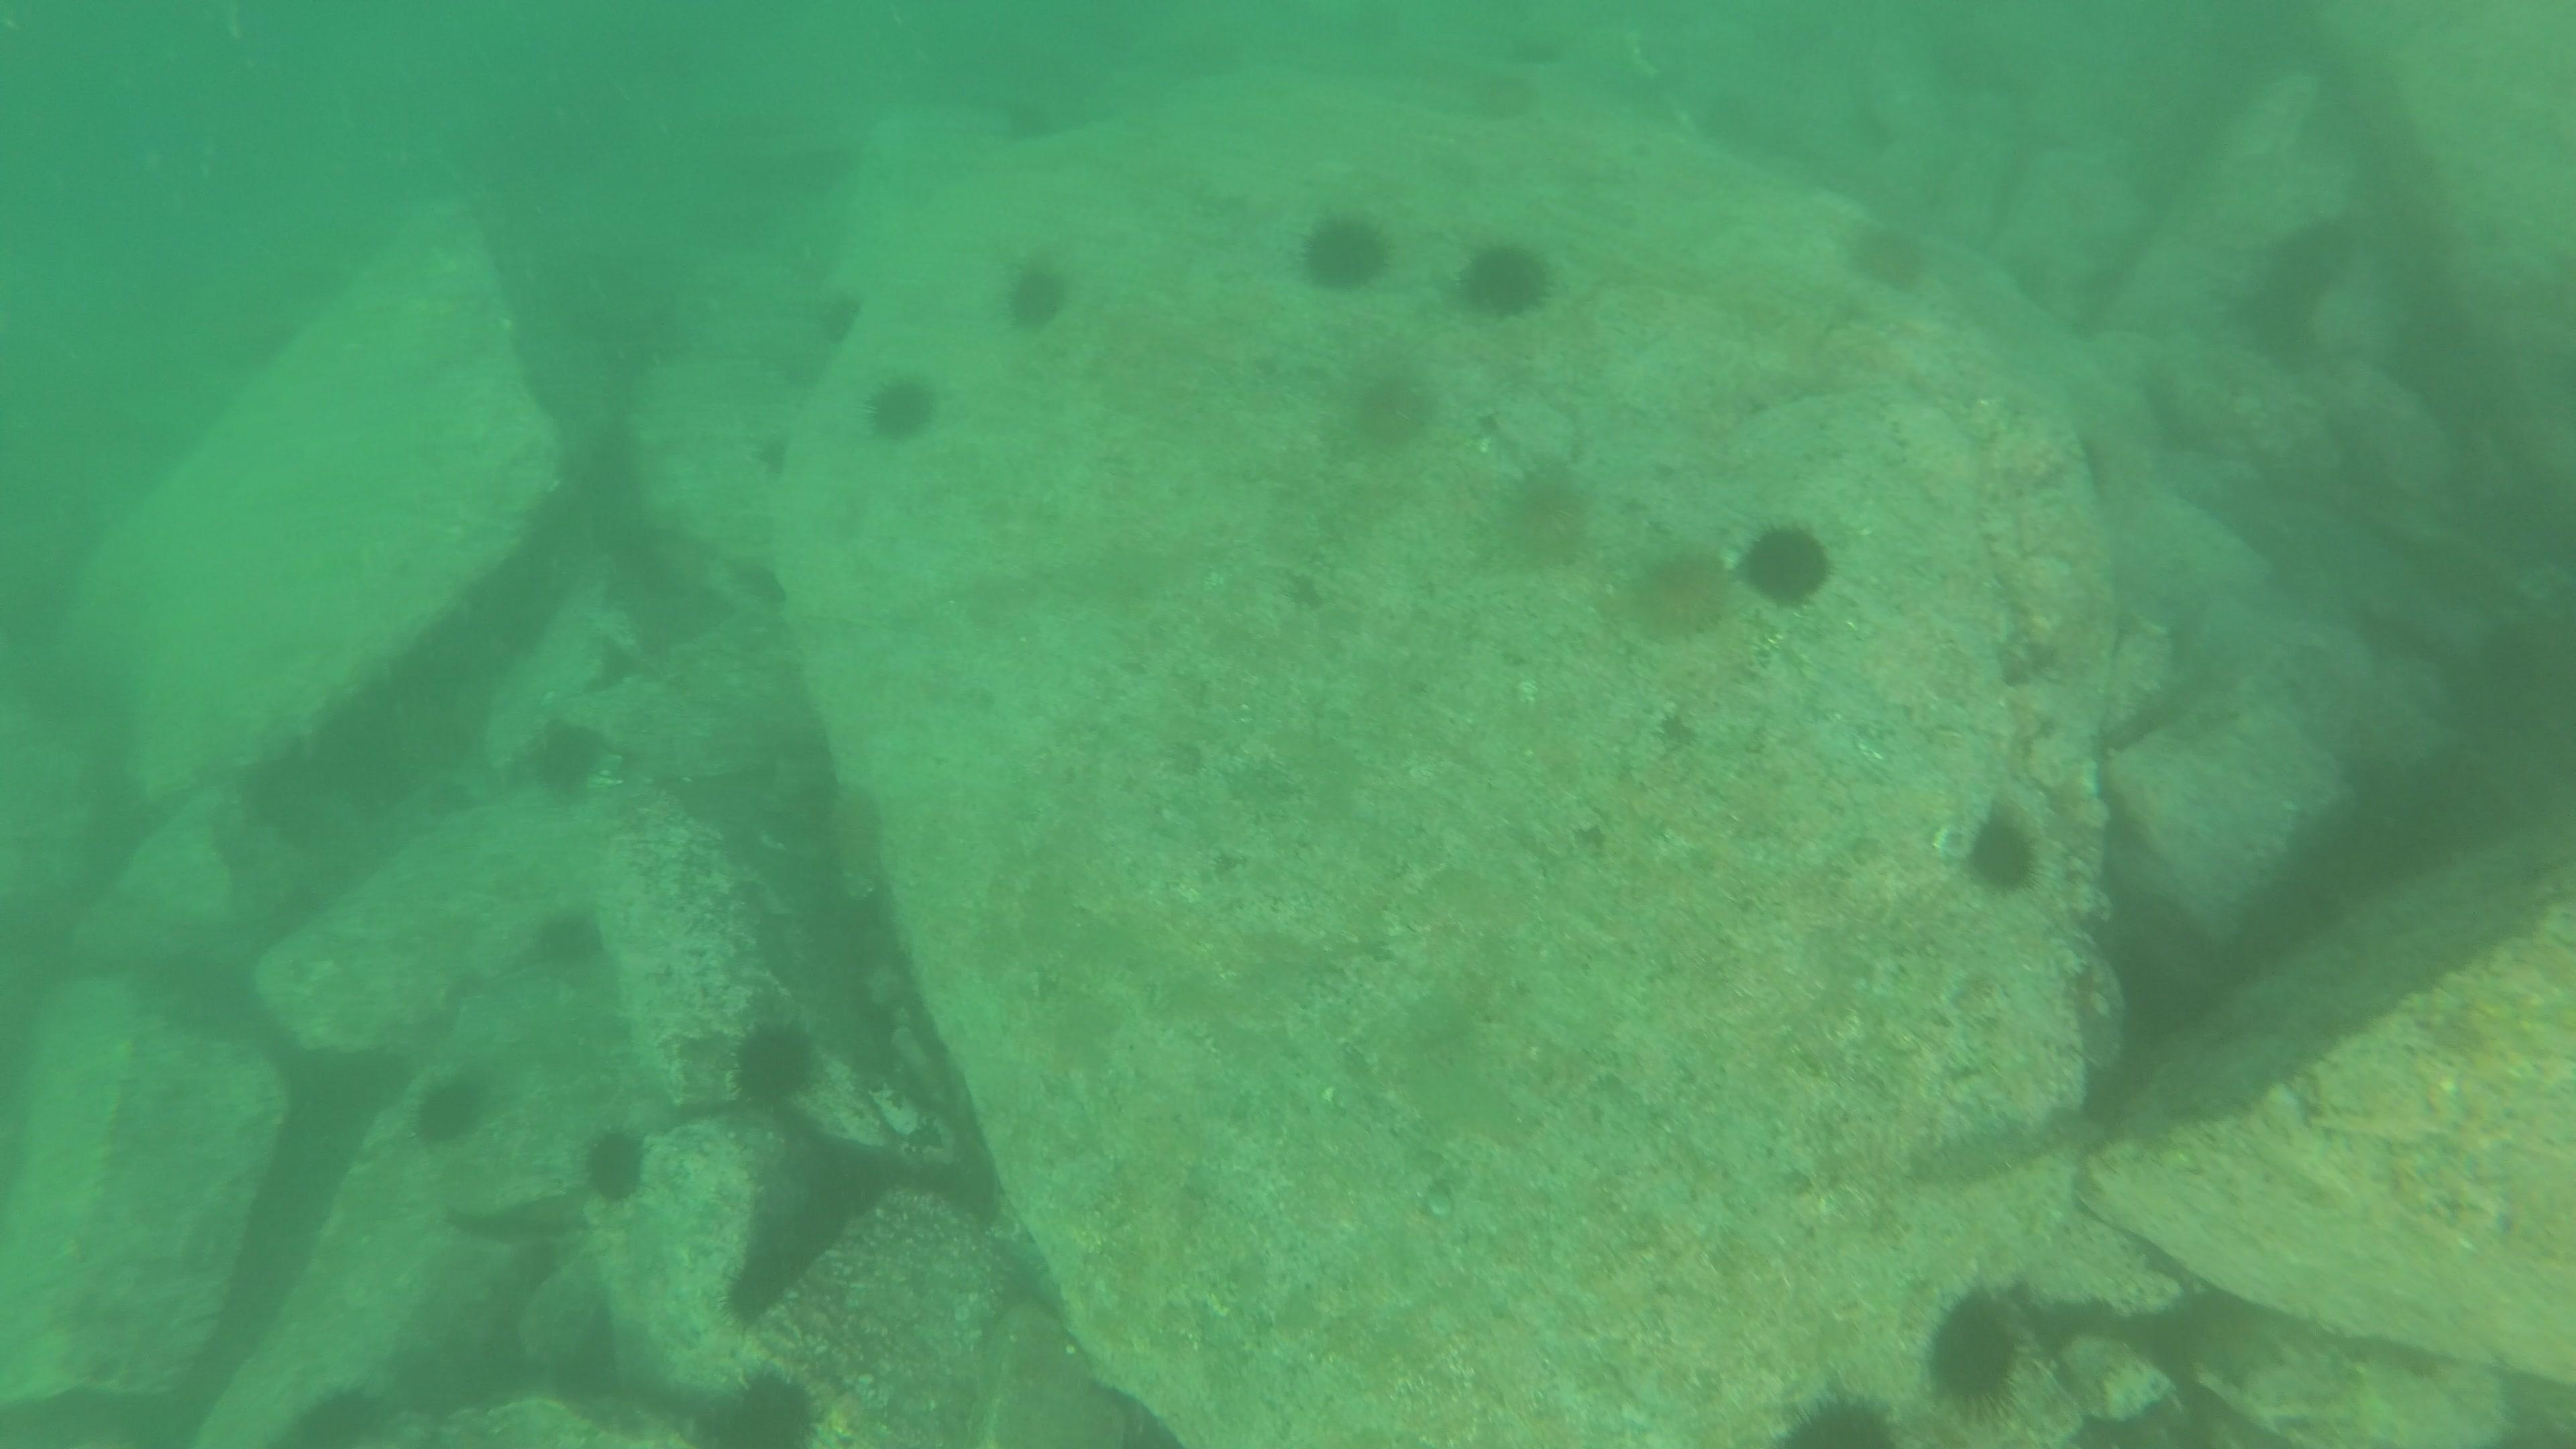echinus: (1921, 1288, 2033, 1415), (1491, 462, 1599, 575), (1622, 545, 1737, 648), (704, 1362, 826, 1449), (725, 1014, 828, 1115), (1736, 517, 1838, 612), (1341, 364, 1440, 458), (1293, 205, 1394, 295), (1454, 234, 1557, 322), (520, 713, 614, 805), (1959, 803, 2045, 899), (1842, 214, 1936, 297), (1780, 1382, 1902, 1445), (285, 1378, 396, 1447), (405, 1067, 494, 1152), (575, 1120, 656, 1207), (996, 251, 1076, 336), (525, 901, 610, 980), (860, 368, 943, 446), (810, 280, 867, 347), (748, 425, 796, 481), (1474, 76, 1536, 115), (1010, 106, 1047, 143), (1516, 44, 1564, 73)
